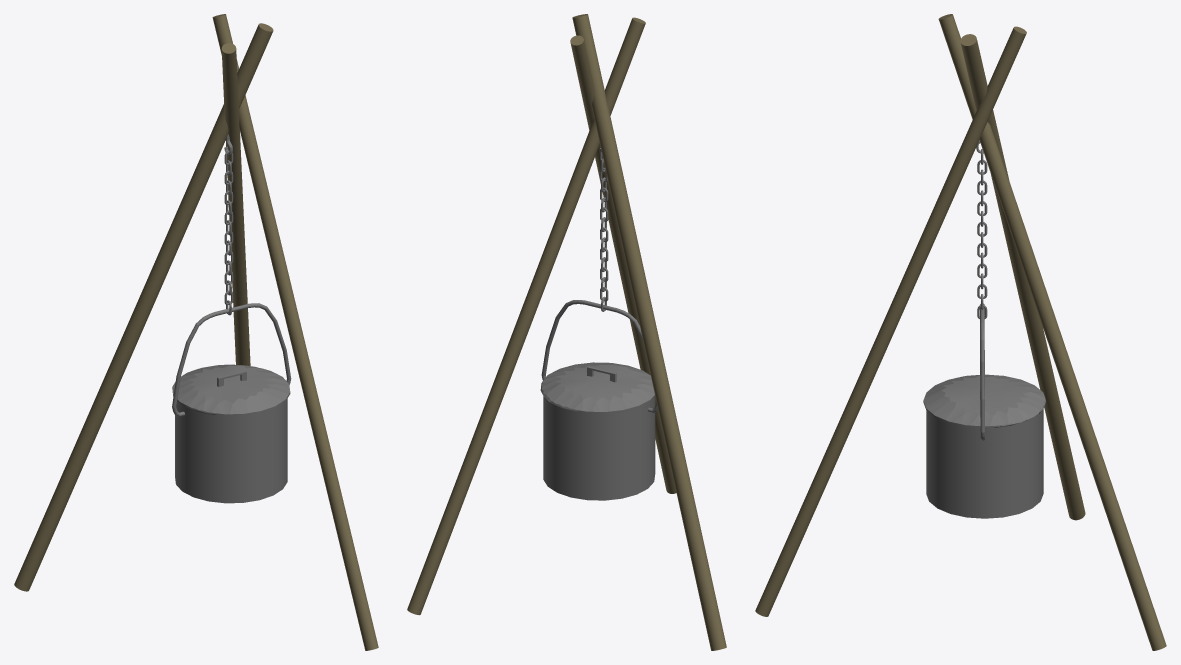
File: Final_CookingPot.fbx
3 views of the same model, side by side, from view 1: azimuth 30°, elevation 25°; view 2: azimuth 150°, elevation 25°; view 3: azimuth 270°, elevation 25° (orthographic). The views are drawn at different scales.
Parts seen in each view (by area): view 1: pCylinder66, polySurface41, pCylinder21, pCylinder67, polySurface38, polySurface37; view 2: pCylinder66, polySurface41, pCylinder21, pCylinder67, polySurface37; view 3: pCylinder66, polySurface41, pCylinder21, pCylinder67, polySurface37.
Boxes of the visible parts, box(x1,y1,x2,y2) form: pCylinder66: box(14, 14, 378, 650); polySurface41: box(175, 398, 287, 503); pCylinder21: box(172, 364, 290, 416); pCylinder67: box(224, 134, 233, 315); polySurface38: box(172, 307, 237, 416); polySurface37: box(236, 303, 291, 384); pCylinder66: box(407, 14, 726, 650); polySurface41: box(543, 396, 655, 500); pCylinder21: box(540, 362, 655, 413); pCylinder67: box(600, 148, 608, 311); polySurface37: box(541, 300, 596, 380); pCylinder66: box(755, 14, 1166, 650); polySurface41: box(926, 409, 1043, 518); pCylinder21: box(923, 374, 1045, 428); pCylinder67: box(976, 140, 987, 318); polySurface37: box(980, 317, 984, 440).
Bounding box in the file's own units: 20.07 × 38.18 × 24.67.
